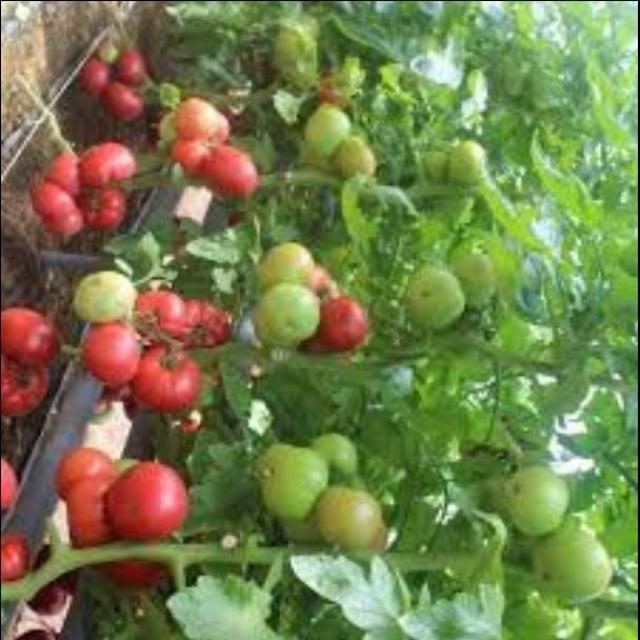Tomato: (75, 247, 224, 410), (248, 418, 412, 566), (494, 454, 630, 604), (50, 439, 196, 578), (246, 234, 376, 355), (149, 80, 276, 198), (27, 124, 150, 240), (2, 281, 74, 420), (66, 30, 166, 128), (394, 234, 509, 318), (292, 99, 392, 188), (406, 122, 494, 190), (2, 422, 36, 578)
